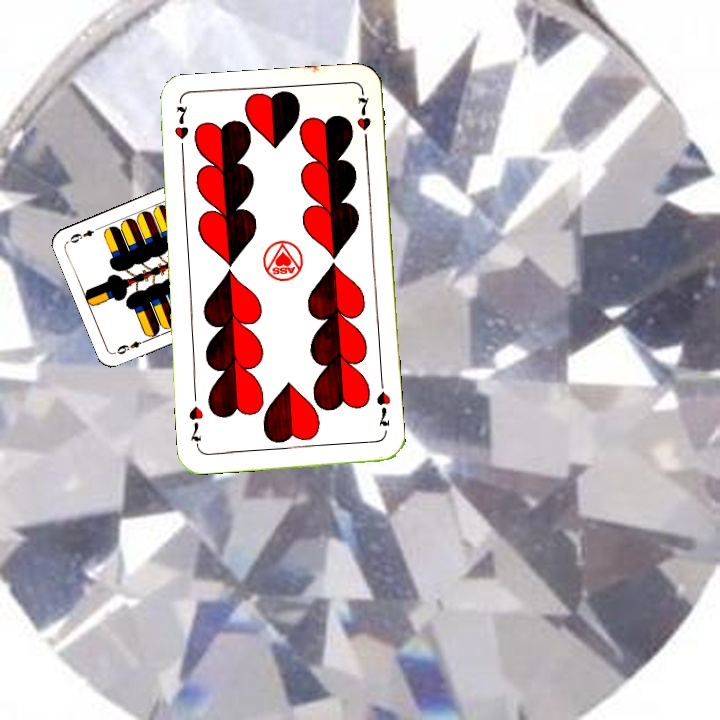E9: (113, 335, 151, 357)
H7: (170, 102, 191, 159), (372, 387, 393, 429)
